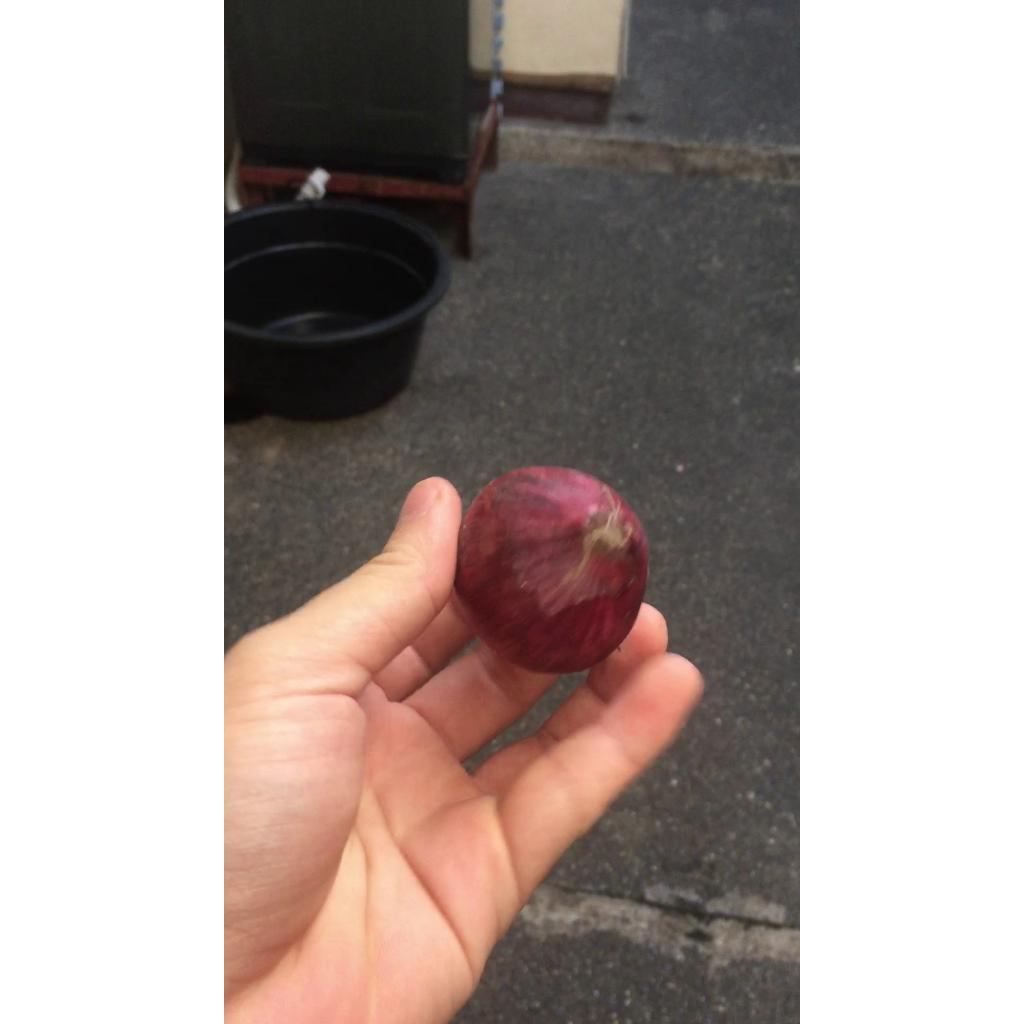Onion: (454, 467, 647, 674)
